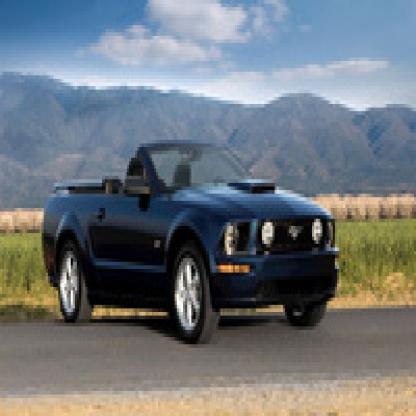Vehicle: (42, 143, 345, 355)
